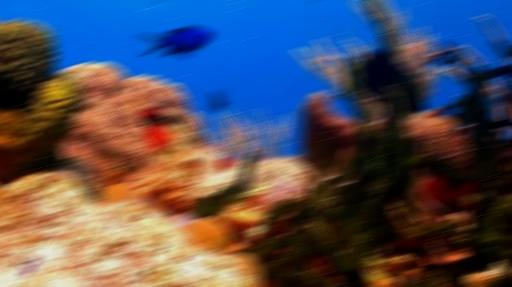Fish: (356, 50, 427, 112), (134, 27, 213, 58), (210, 91, 225, 111), (333, 90, 344, 99), (155, 0, 164, 2)
